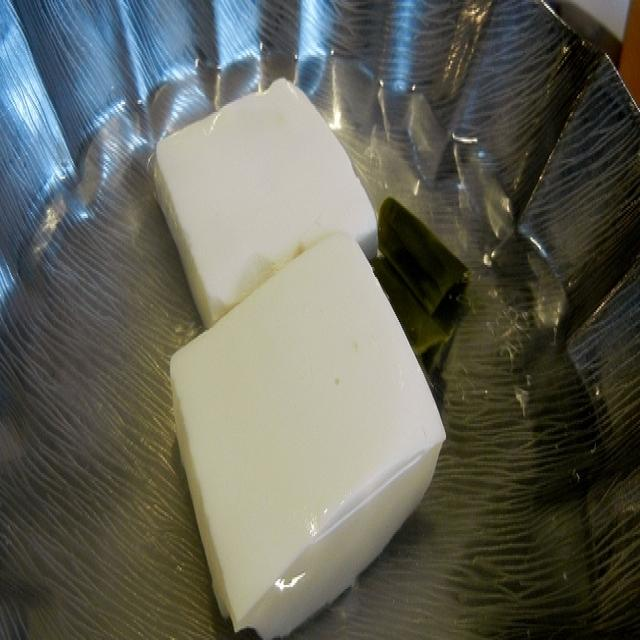豆腐料理: (10, 8, 628, 628)
